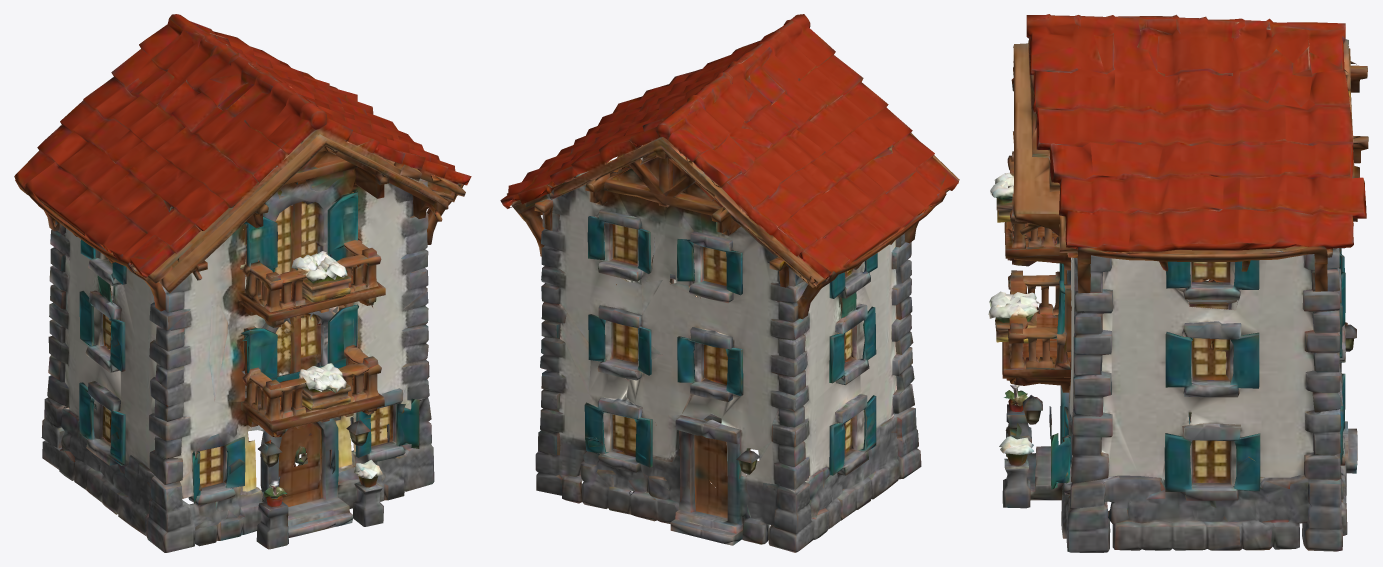
The picture shows the model from 3 angles, left to right: view 1: azimuth 30°, elevation 25°; view 2: azimuth 150°, elevation 25°; view 3: azimuth 270°, elevation 25°; orthographic projection. The views are drawn at different scales.
Visible parts, largest first — view 1: alpine__tower_3__native_mobile; view 2: alpine__tower_3__native_mobile; view 3: alpine__tower_3__native_mobile.
Boxes of the visible parts, bbox=[...] form: alpine__tower_3__native_mobile: bbox=[14, 14, 471, 552]; alpine__tower_3__native_mobile: bbox=[500, 14, 959, 552]; alpine__tower_3__native_mobile: bbox=[988, 14, 1368, 552].
Bounding box in the file's own units: 0.8468 × 1 × 0.7358.
Materials: 1 (1 with a texture image).
